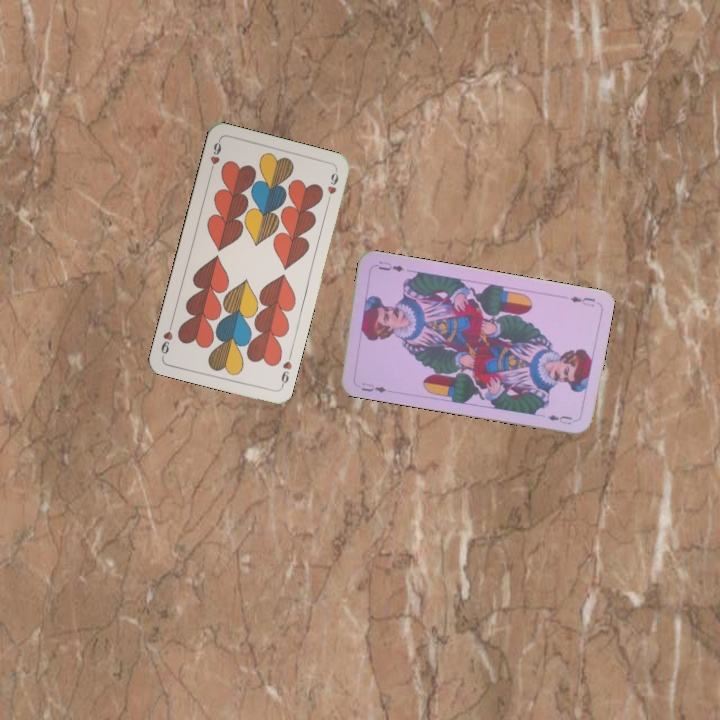EU: (357, 378, 389, 395), (566, 292, 597, 309)
H9: (206, 137, 224, 177), (277, 357, 294, 390)
